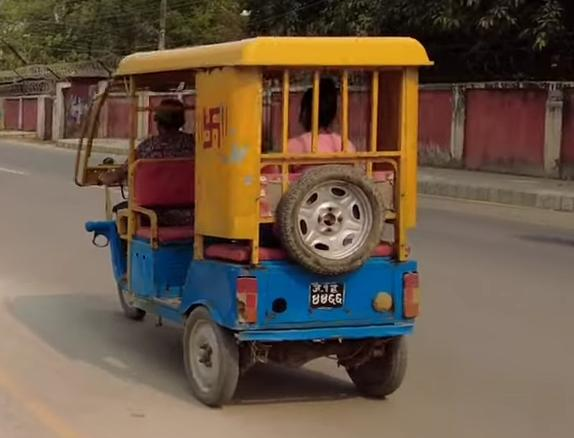e-rickshaw: (70, 31, 437, 407)
